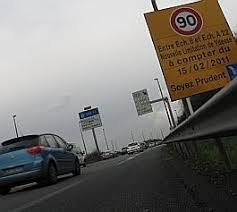Speed_limit_90km: (169, 6, 204, 36)
